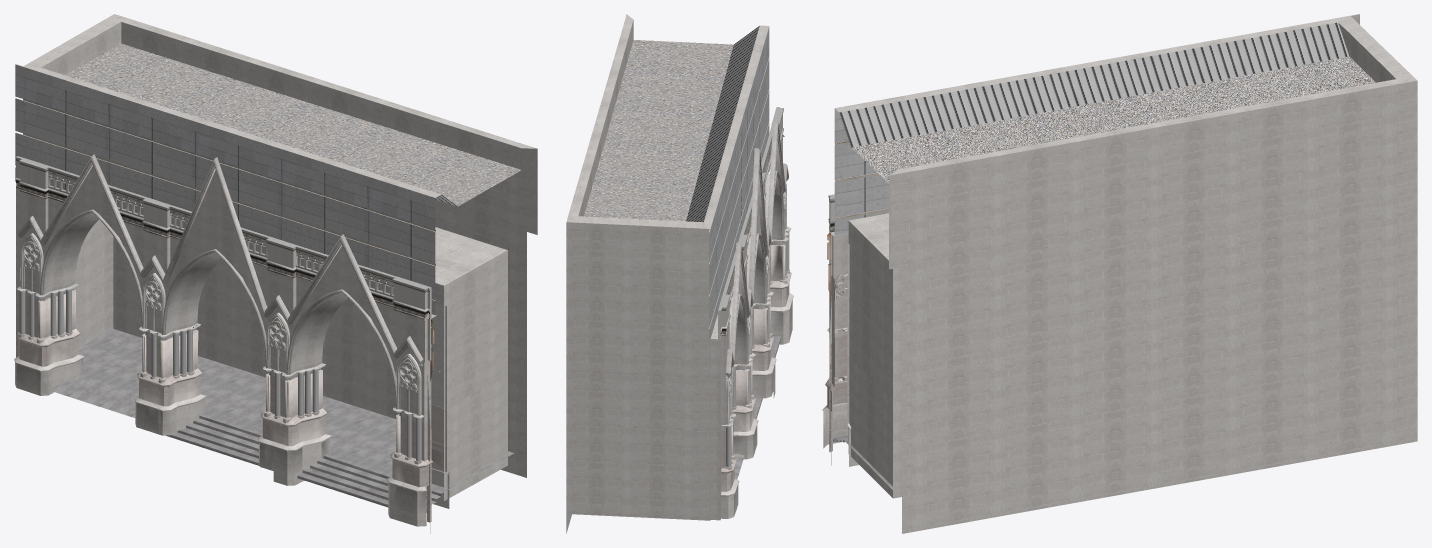
Rendered from Iglesia_Low_Final.fbx.
3 renders of one model, left to right at view 1: azimuth 30°, elevation 25°; view 2: azimuth 150°, elevation 25°; view 3: azimuth 270°, elevation 25°, orthographic. The views are drawn at different scales.
Visible parts, largest first — view 1: Esglesia.001, Pilares Iglesia; view 2: Esglesia.001, Pilares Iglesia; view 3: Esglesia.001.
Boxes of the visible parts, bbox=[...] form: Esglesia.001: bbox=[14, 14, 537, 533]; Pilares Iglesia: bbox=[19, 289, 421, 461]; Esglesia.001: bbox=[566, 14, 793, 533]; Pilares Iglesia: bbox=[726, 232, 789, 466]; Esglesia.001: bbox=[822, 14, 1417, 533].
Bounding box in the file's own units: 1663 × 1659 × 2479.
